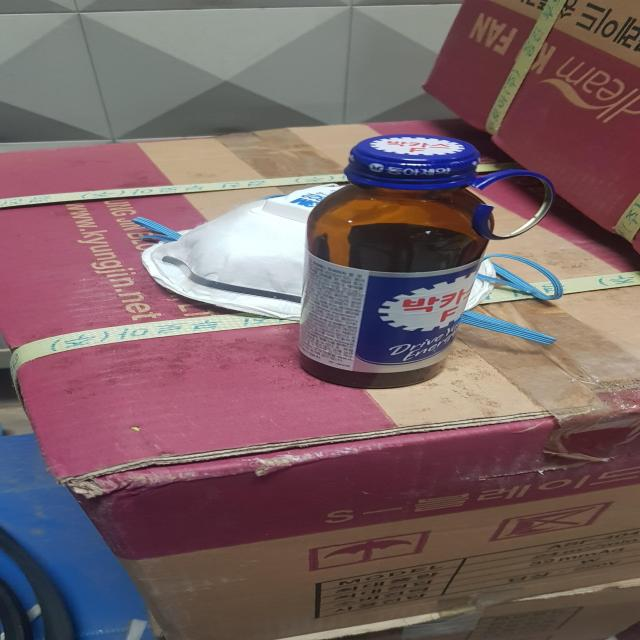litter: (298, 134, 556, 389)
